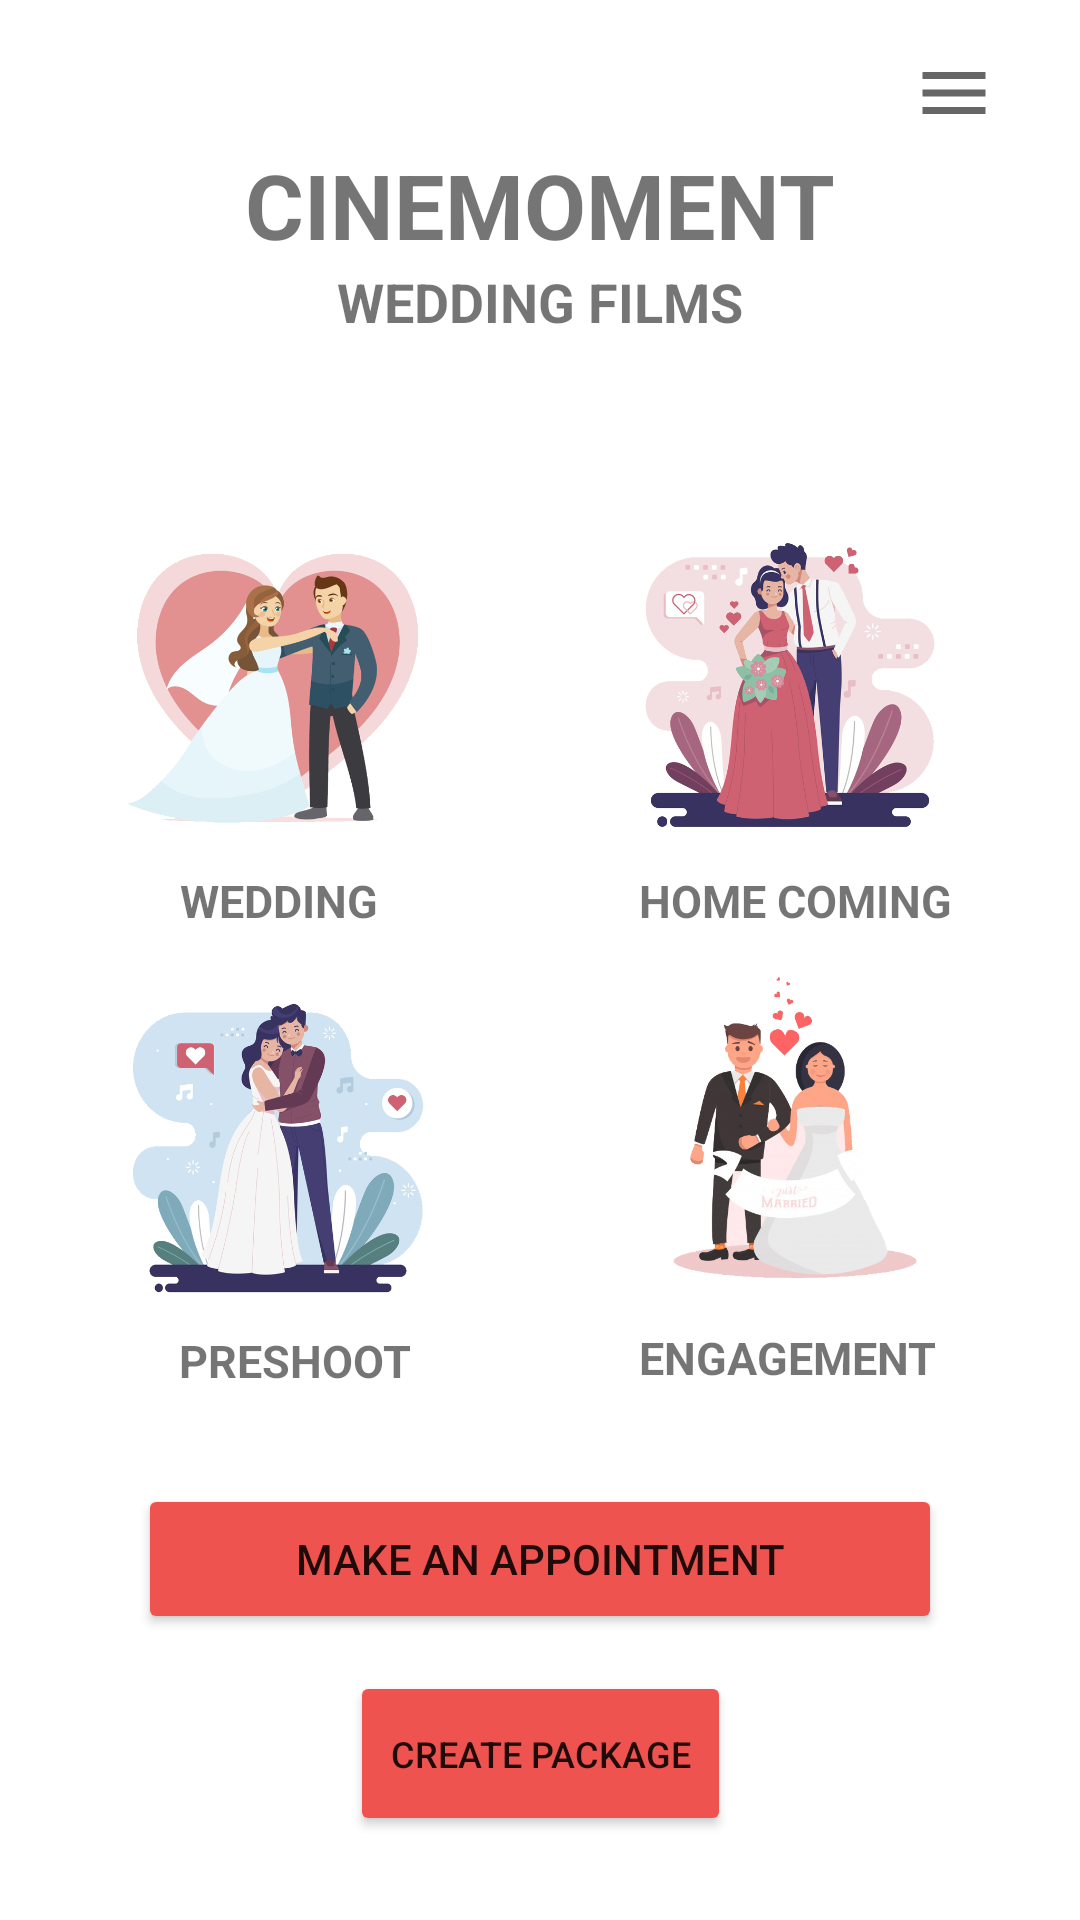

Where icons sit on this 1080w x 1920h app screen, as (x1, y1, x2, y2):
menu: (922, 72, 986, 114)
